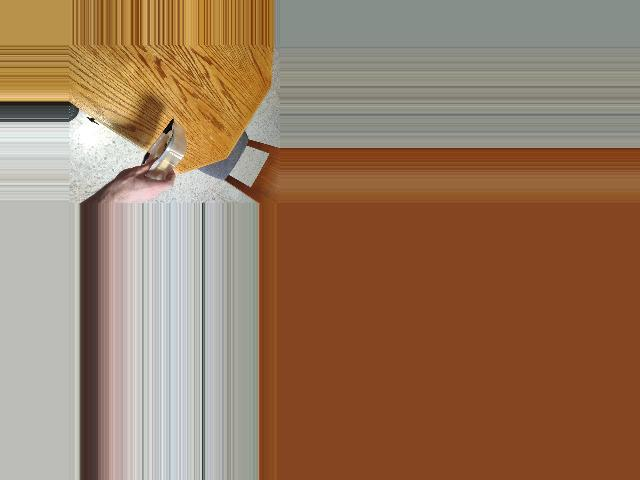cheese: (119, 124, 194, 187)
